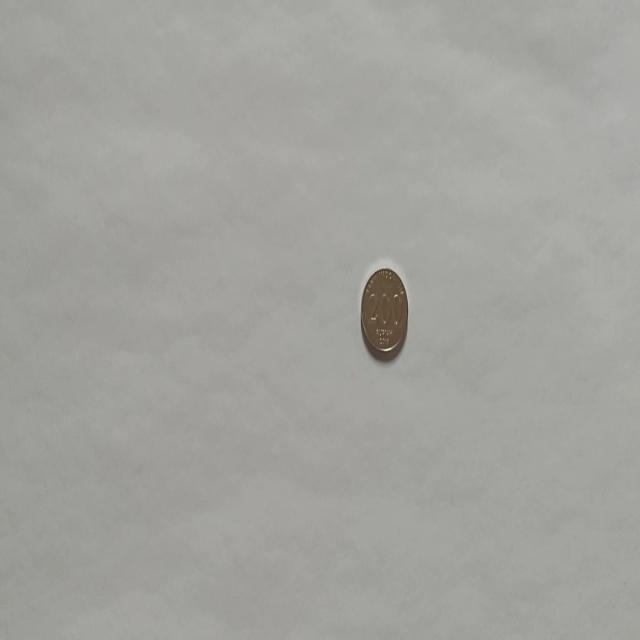dua ratus rupiah: (359, 265, 408, 358)
